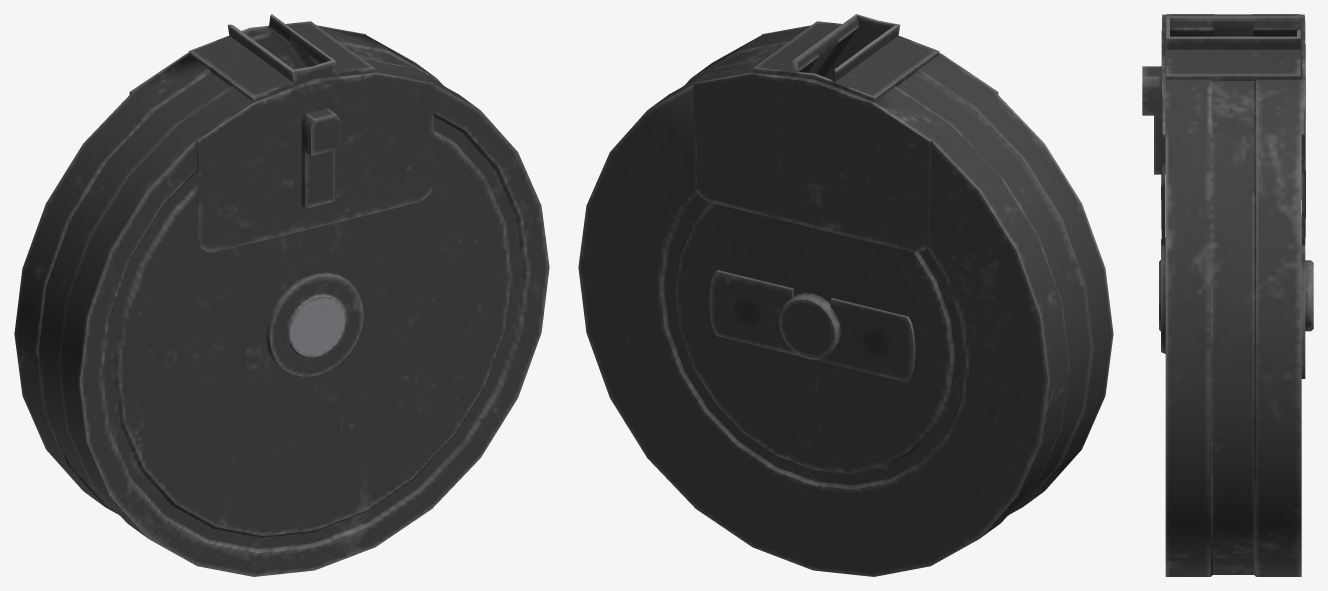
File: drum.glb
3 views of the same model, side by side, from view 1: azimuth 30°, elevation 25°; view 2: azimuth 150°, elevation 25°; view 3: azimuth 270°, elevation 25° (orthographic). The views are drawn at different scales.
Visible parts, largest first — view 1: Magazine; view 2: Magazine; view 3: Magazine.
Part boxes in pixels (x1,y1,x2,y2): Magazine: [14, 14, 549, 576]; Magazine: [578, 14, 1113, 576]; Magazine: [1142, 14, 1313, 576].
Bounding box in the file's own units: 0.1387 × 0.1422 × 0.0421.
Materials: 1 (1 with a texture image).
